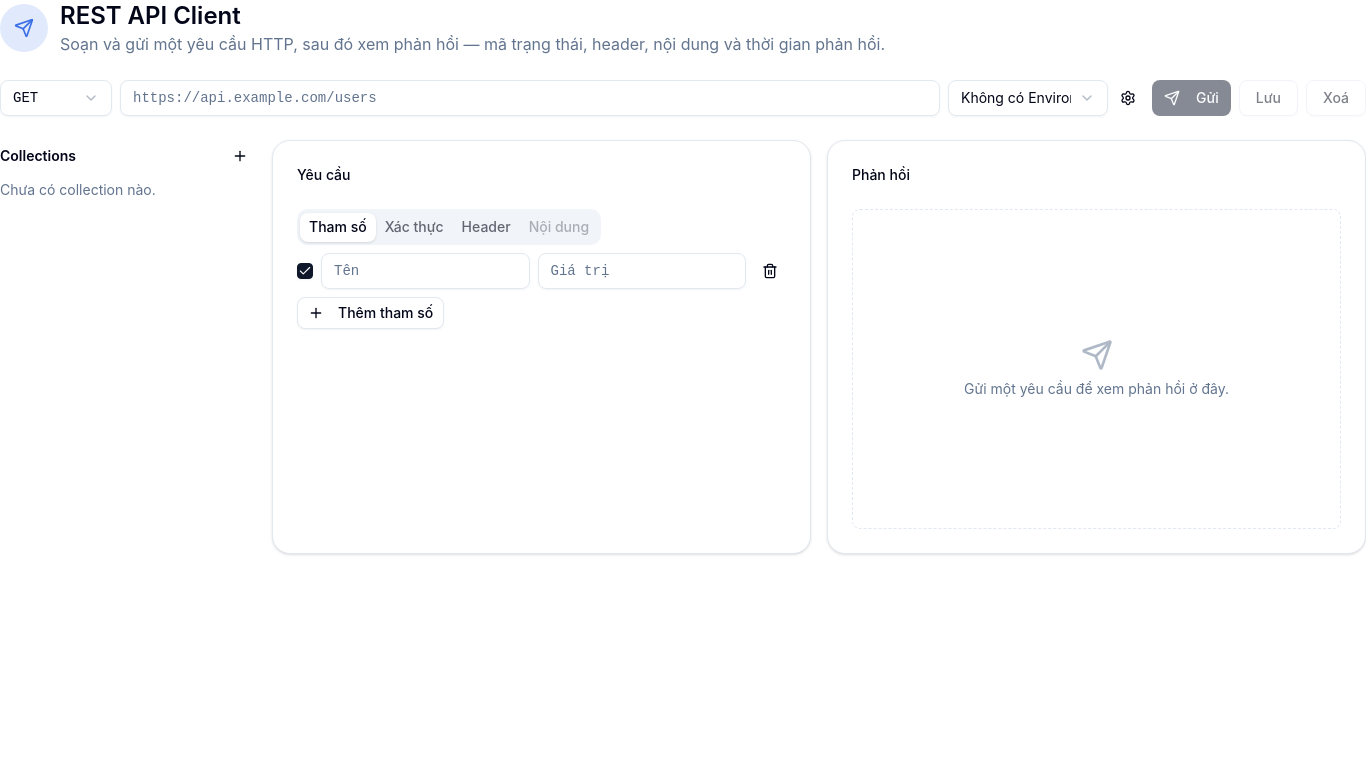
Test case: RestApiClientScreen › clears the URL and response after confirming Clear
Type "https://api.example.com" into the field named "URL yêu cầu".
click(530, 98); type("https://api.example.com")  # box [120,80,940,116]
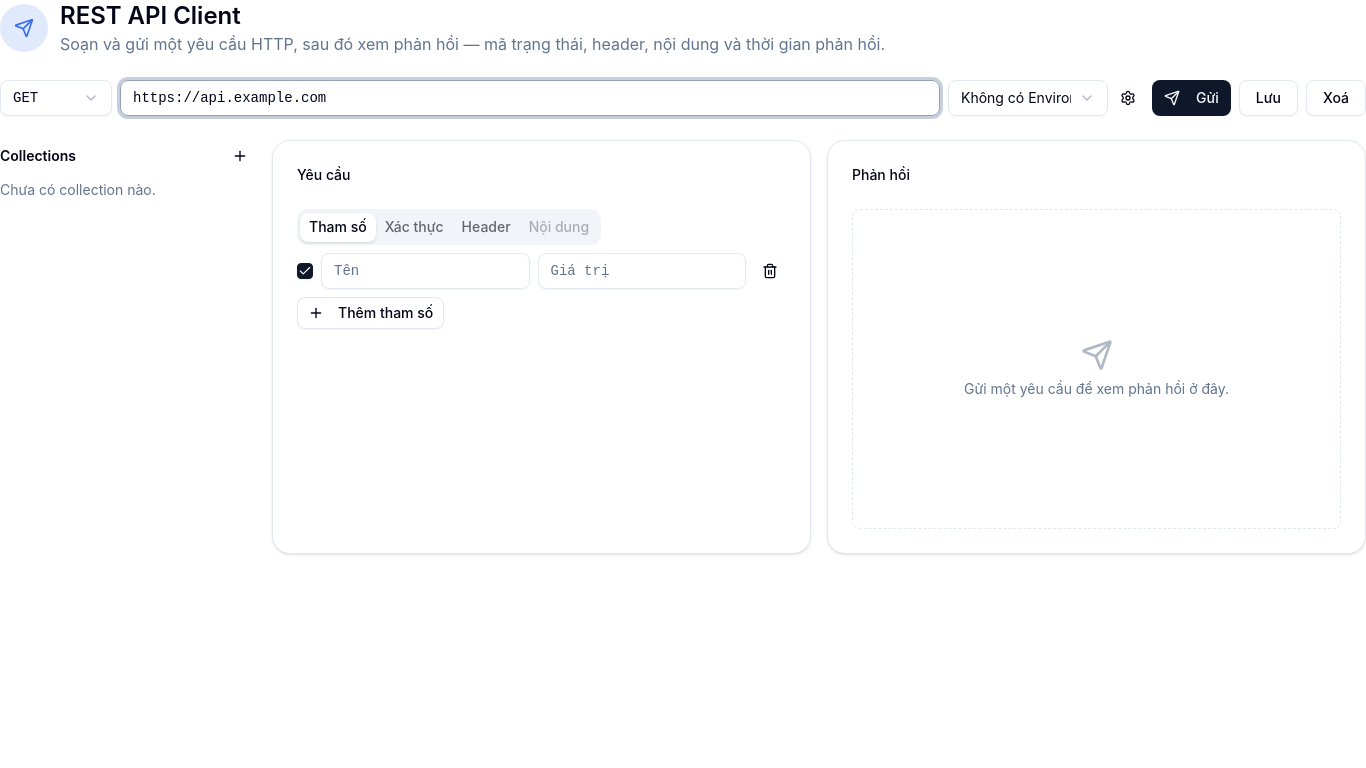
Click the button "Gửi".
click(1191, 98)  # box [1152,80,1231,116]
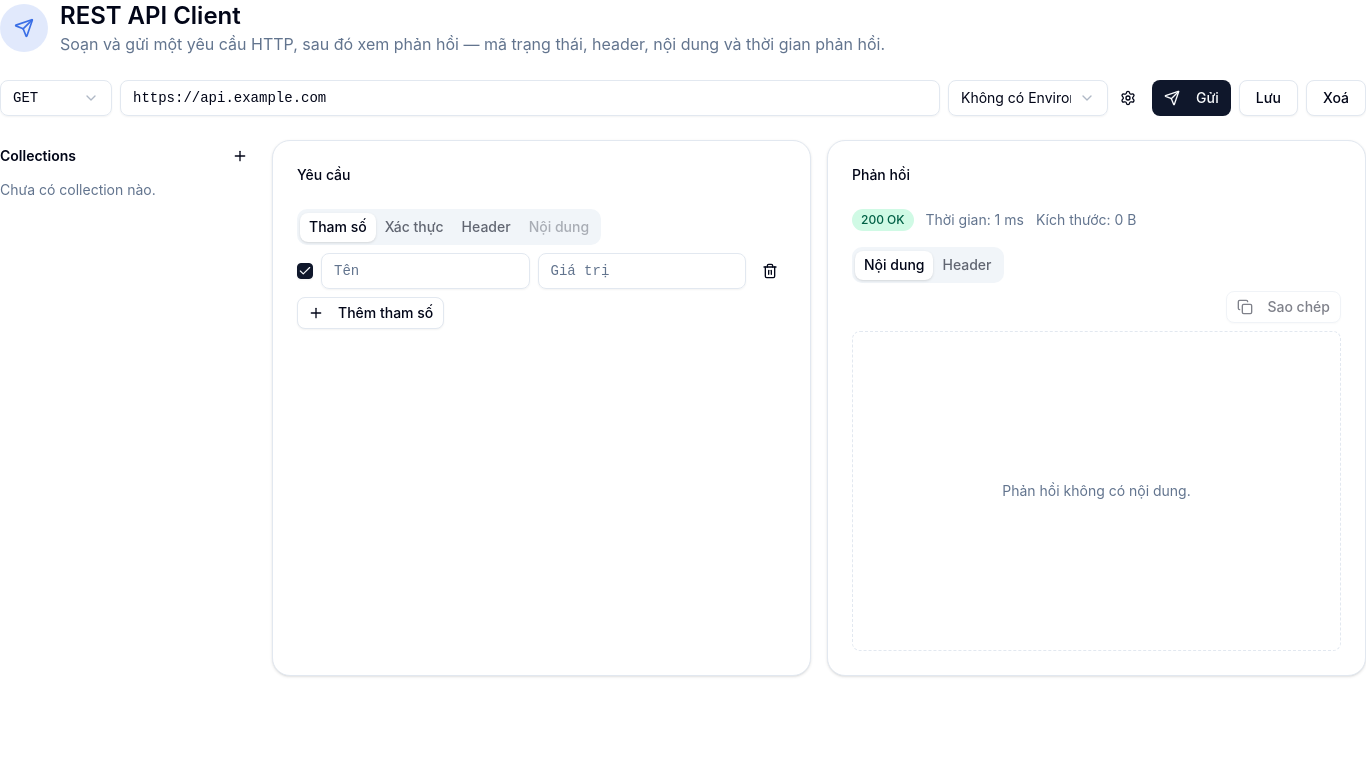
Now the text "200 OK" is shown, box [852,209,914,231]
Click the button "Xoá".
click(1336, 98)  # box [1306,80,1365,116]
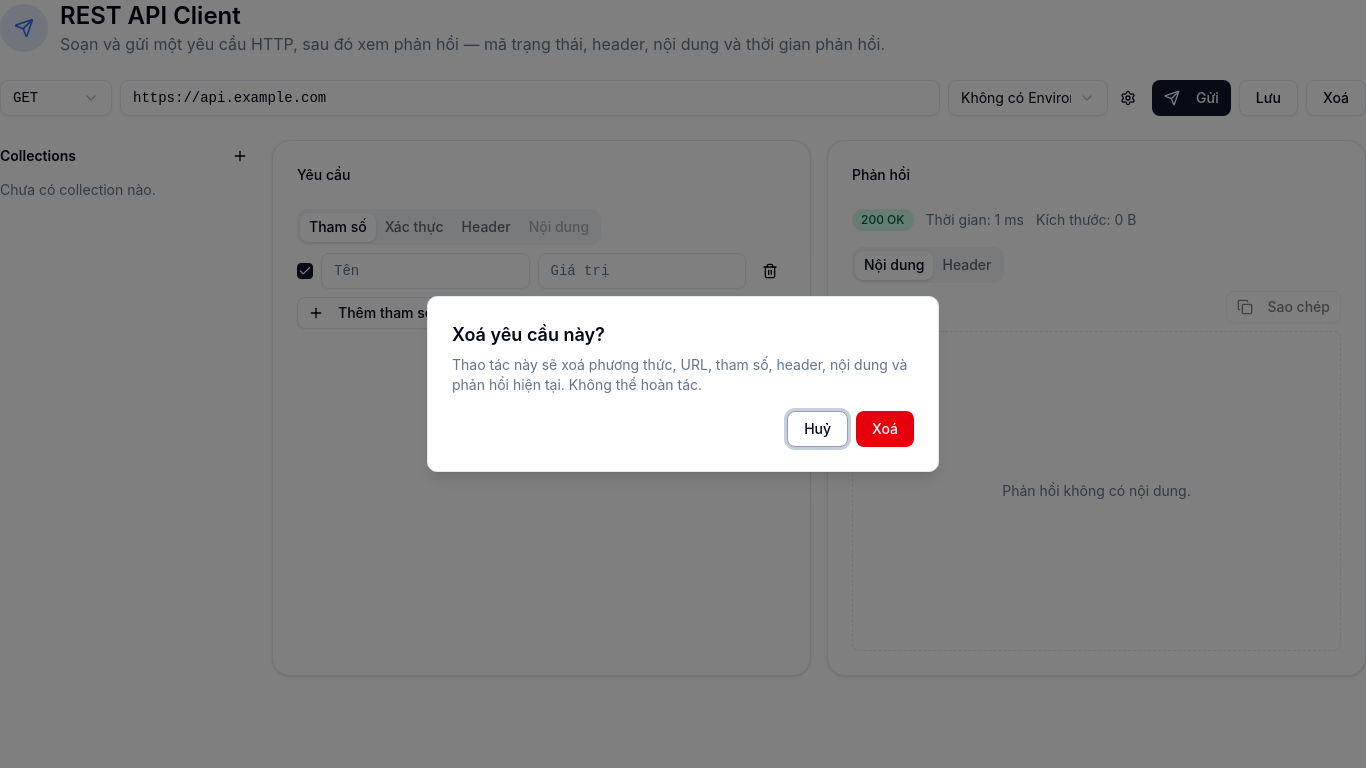
Click the button "Xoá".
click(885, 429)  # box [856,411,914,447]
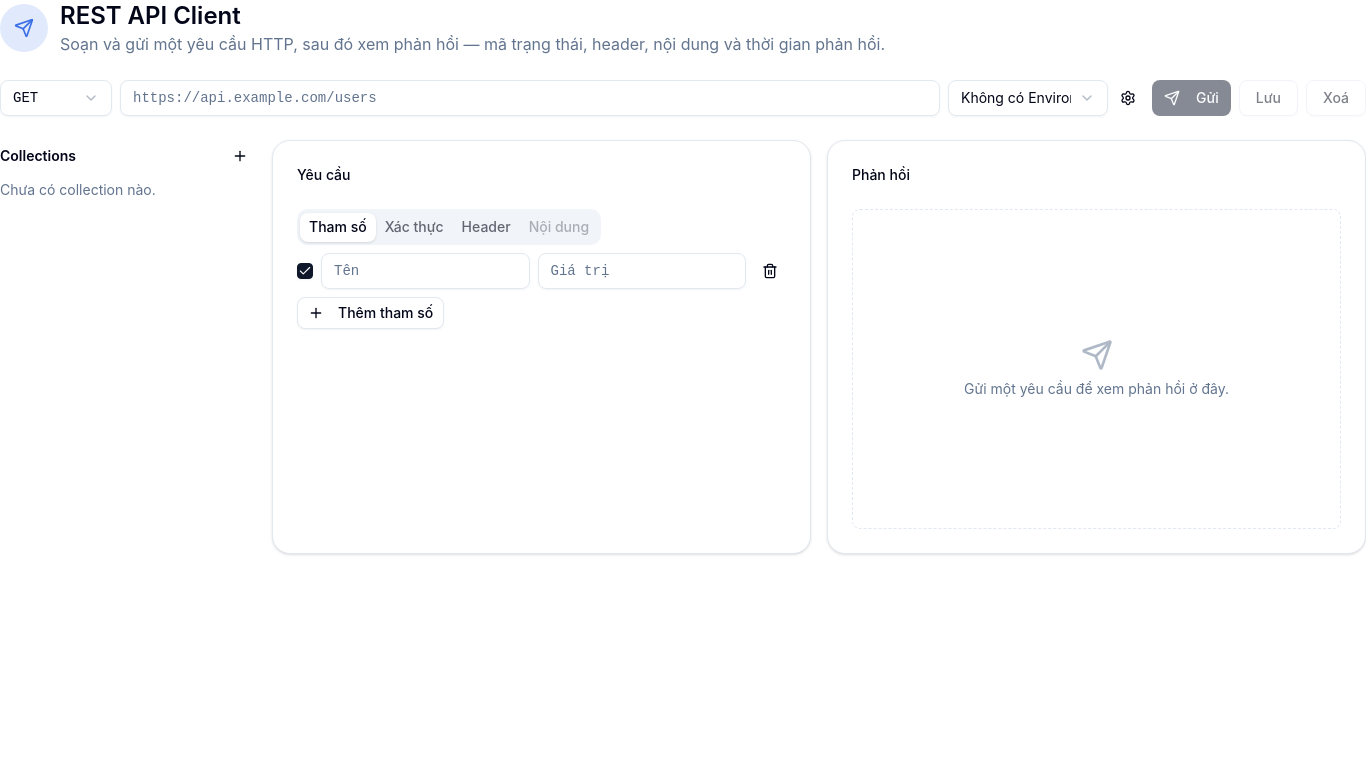
Now the field named "URL yêu cầu" is empty, box [120,80,940,116]
Now the text "Gửi một yêu cầu để xem phản hồi ở đây." is shown, box [964,379,1229,399]
